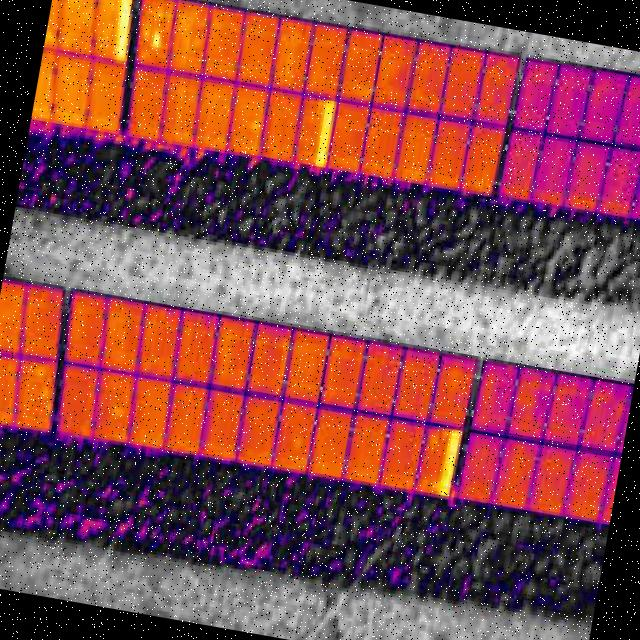Hotspot: (434, 426, 466, 504), (105, 0, 141, 64), (312, 100, 336, 170), (148, 30, 164, 54)
